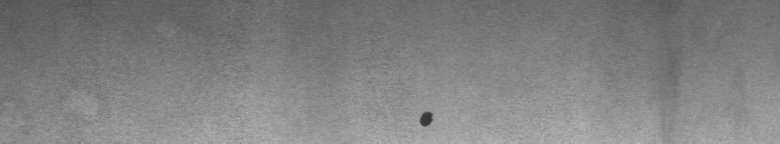fi: (410, 104, 441, 136)
